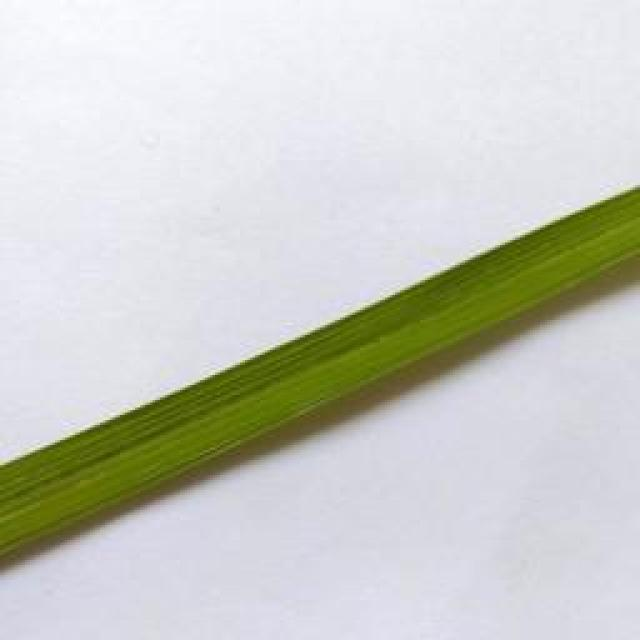Healthy-Plant: (252, 253, 492, 456), (106, 339, 280, 536), (477, 185, 640, 359), (0, 410, 133, 575)
